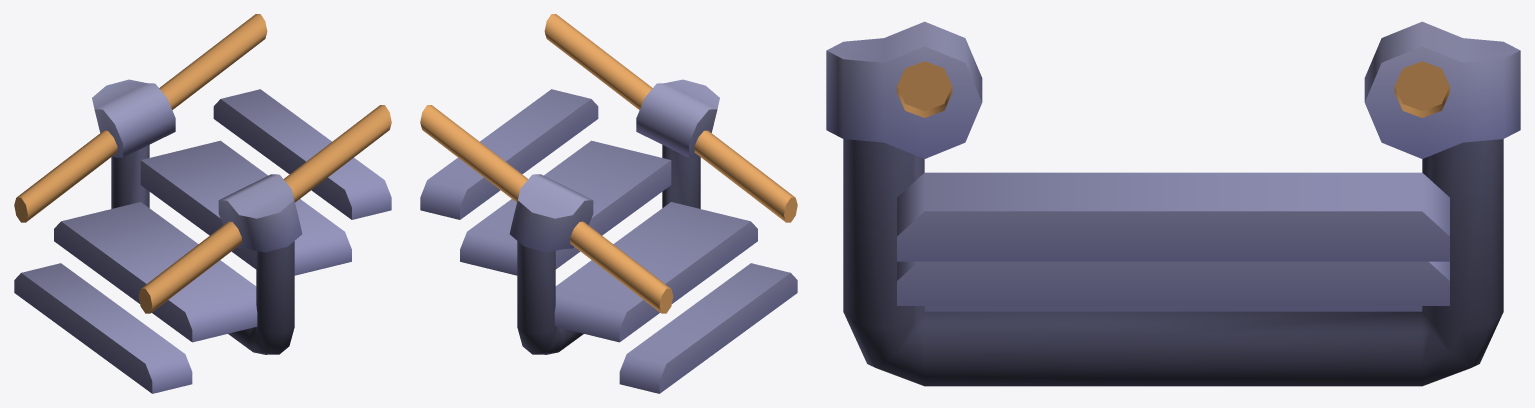
File: catwalk-stairs-loop.glb
3 renders of one model, left to right at view 1: azimuth 30°, elevation 25°; view 2: azimuth 150°, elevation 25°; view 3: azimuth 270°, elevation 25°, orthographic. The views are drawn at different scales.
Visible parts, largest first — view 1: catwalk-stairs-loop; view 2: catwalk-stairs-loop; view 3: catwalk-stairs-loop.
Boxes of the visible parts, left/top/right/bottom form: catwalk-stairs-loop: left=14, top=14, right=391, bottom=393; catwalk-stairs-loop: left=420, top=14, right=797, bottom=393; catwalk-stairs-loop: left=826, top=21, right=1520, bottom=386.
Size of the model in its own units: 1 by 0.9 by 1.26.
Materials: 1 (1 with a texture image).
